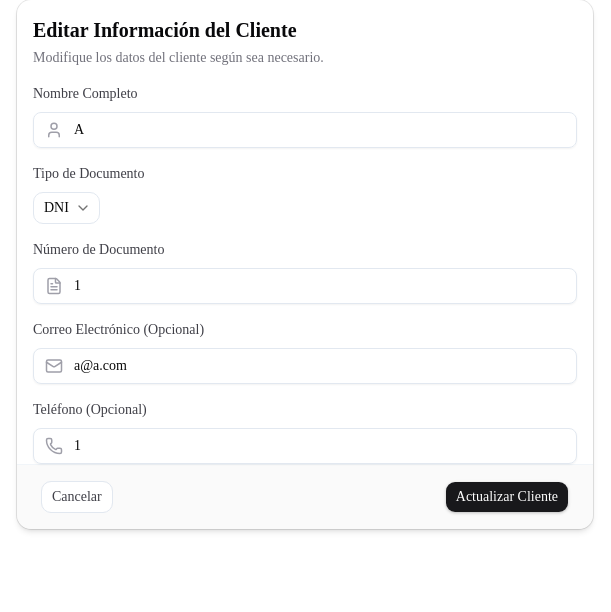
Scenario: ClientForm › muestra error si el submit falla
This screenshot has width=611, height=612.
Step 1. Click the button "Actualizar Cliente" → (507, 497), box [445, 481, 569, 513]
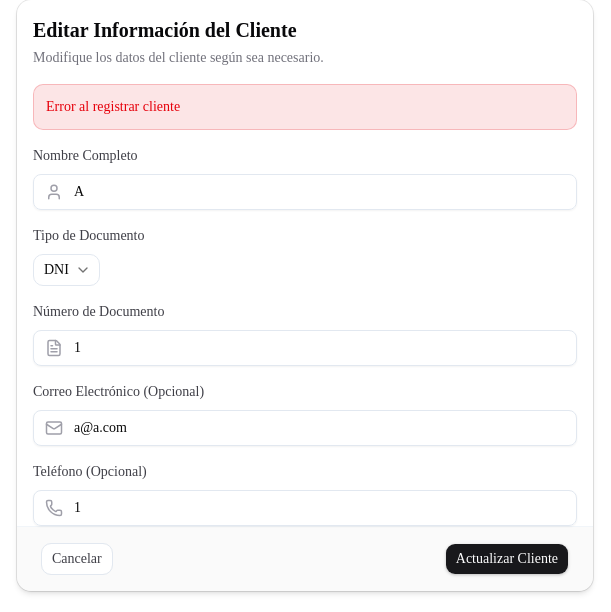
Expected: the text "Error al registrar cliente" is shown, [33, 84, 577, 130]
